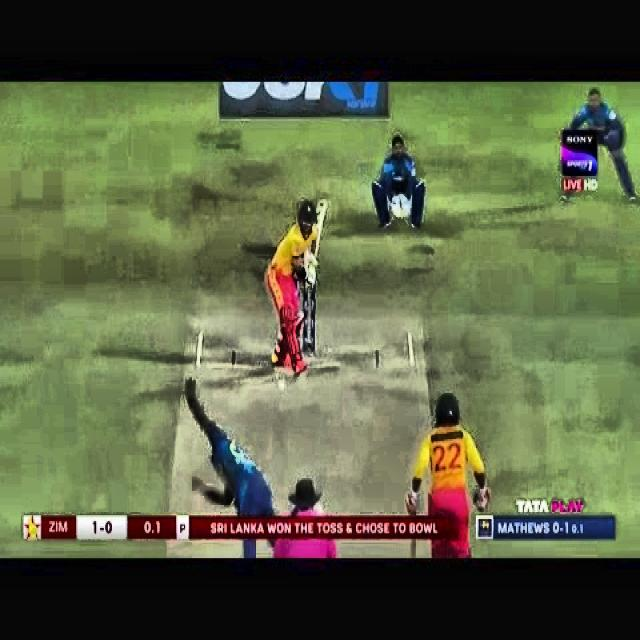Middle-stump: (303, 287, 306, 351)
Right-stump: (311, 288, 314, 351)
